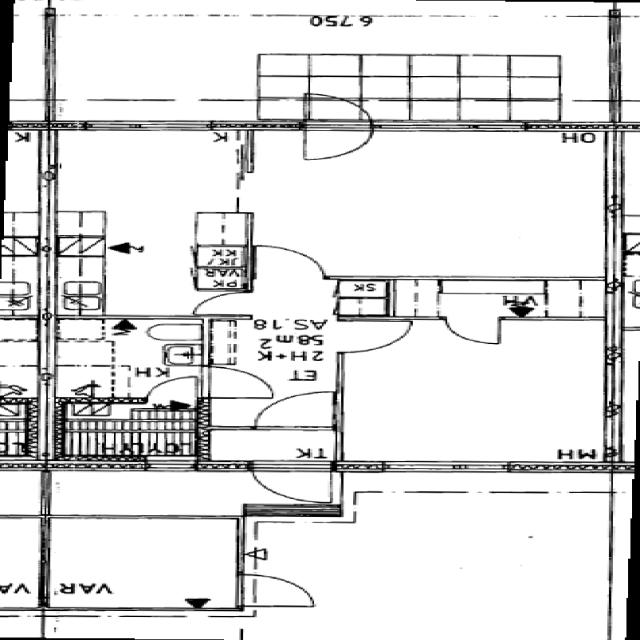door: (51, 315, 202, 406), (290, 93, 380, 163), (243, 460, 343, 505), (243, 390, 342, 431), (229, 571, 325, 608), (247, 243, 333, 277), (200, 365, 277, 401), (336, 319, 414, 353), (441, 317, 508, 346), (143, 376, 204, 400)
window: (370, 116, 545, 136), (74, 117, 230, 135), (375, 457, 506, 475)
zone: (246, 492, 632, 639), (245, 129, 620, 280), (342, 312, 622, 474), (43, 137, 248, 318), (0, 514, 249, 616), (50, 315, 202, 405), (59, 395, 197, 456), (401, 279, 606, 319), (0, 314, 46, 413), (0, 252, 53, 319), (0, 391, 45, 460)
